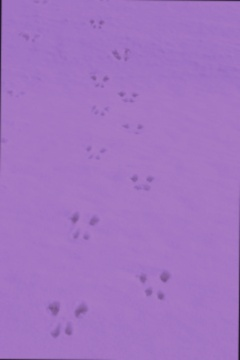ecureuil: (149, 289, 214, 346), (132, 204, 181, 248), (67, 261, 113, 302), (78, 165, 121, 194), (129, 139, 162, 165), (107, 39, 136, 66), (95, 114, 123, 141), (97, 83, 125, 107), (130, 68, 158, 92), (127, 103, 154, 119)
